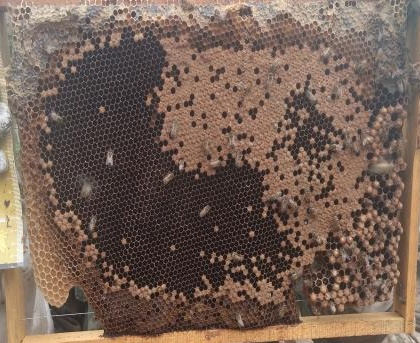cria: (39, 31, 406, 312)
